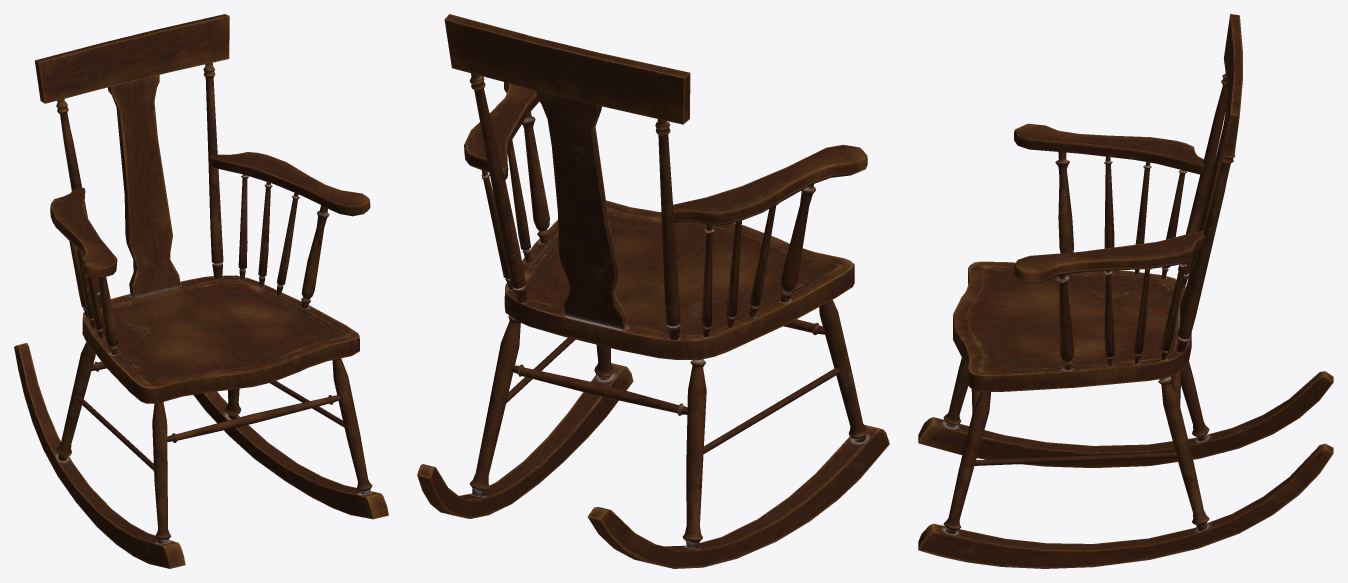
The model's file is Rockingchair_01.glb.
3 renders of one model, left to right at view 1: azimuth 30°, elevation 25°; view 2: azimuth 150°, elevation 25°; view 3: azimuth 270°, elevation 25°, orthographic. The views are drawn at different scales.
Parts seen in each view (by area): view 1: Rockingchair_01; view 2: Rockingchair_01; view 3: Rockingchair_01.
Part boxes in pixels (<box>): Rockingchair_01: <box>14,14,388,568</box>; Rockingchair_01: <box>417,14,889,568</box>; Rockingchair_01: <box>918,14,1333,568</box>.
Bounding box in the file's own units: 0.7081 × 0.9949 × 0.8335.
Materials: 1 (1 with a texture image).
